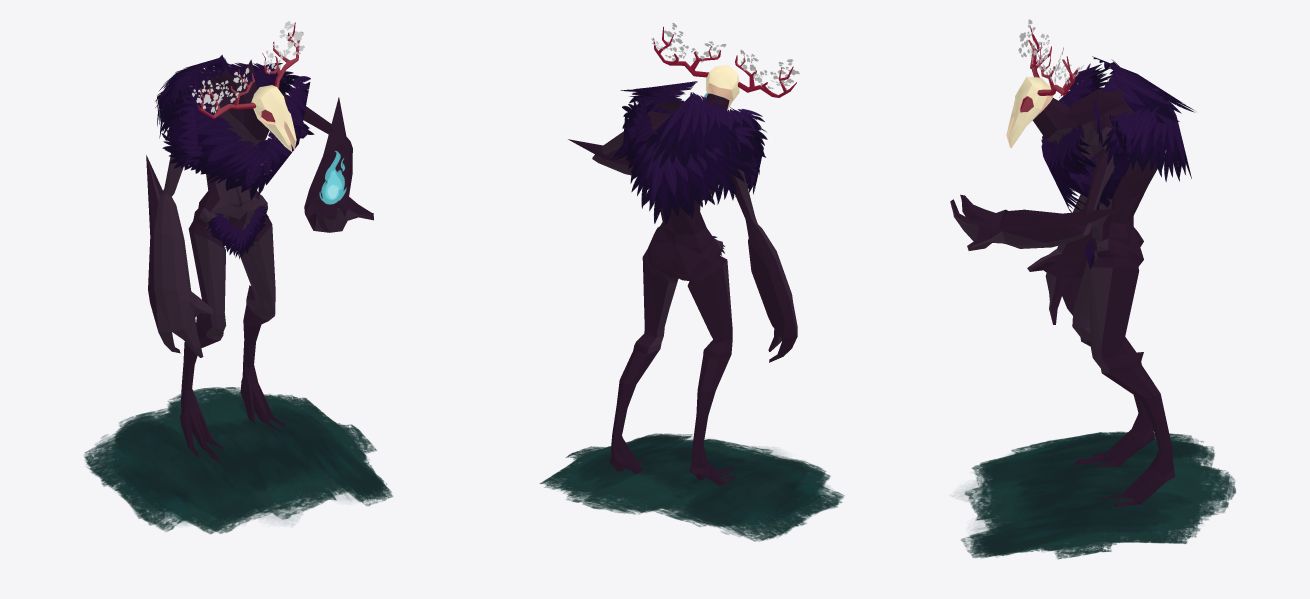
3 renders of one model, left to right at view 1: azimuth 30°, elevation 25°; view 2: azimuth 150°, elevation 25°; view 3: azimuth 270°, elevation 25°, orthographic. The views are drawn at different scales.
Visible parts, largest first — view 1: 3DSMeshMatrix (×3); view 2: 3DSMeshMatrix (×2); view 3: 3DSMeshMatrix (×2).
Part boxes in pixels (bbox=[...]): 3DSMeshMatrix (×3): bbox=[84, 21, 392, 534]; 3DSMeshMatrix (×2): bbox=[539, 23, 844, 541]; 3DSMeshMatrix (×2): bbox=[950, 19, 1235, 559].
Size of what is drawn, in the model's own units: 981 by 1674 by 1078.
11 materials, 5 textured.
